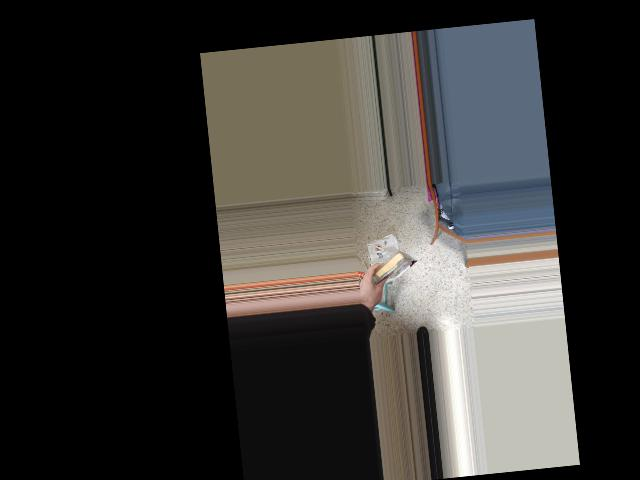cheese: (358, 247, 419, 290)
